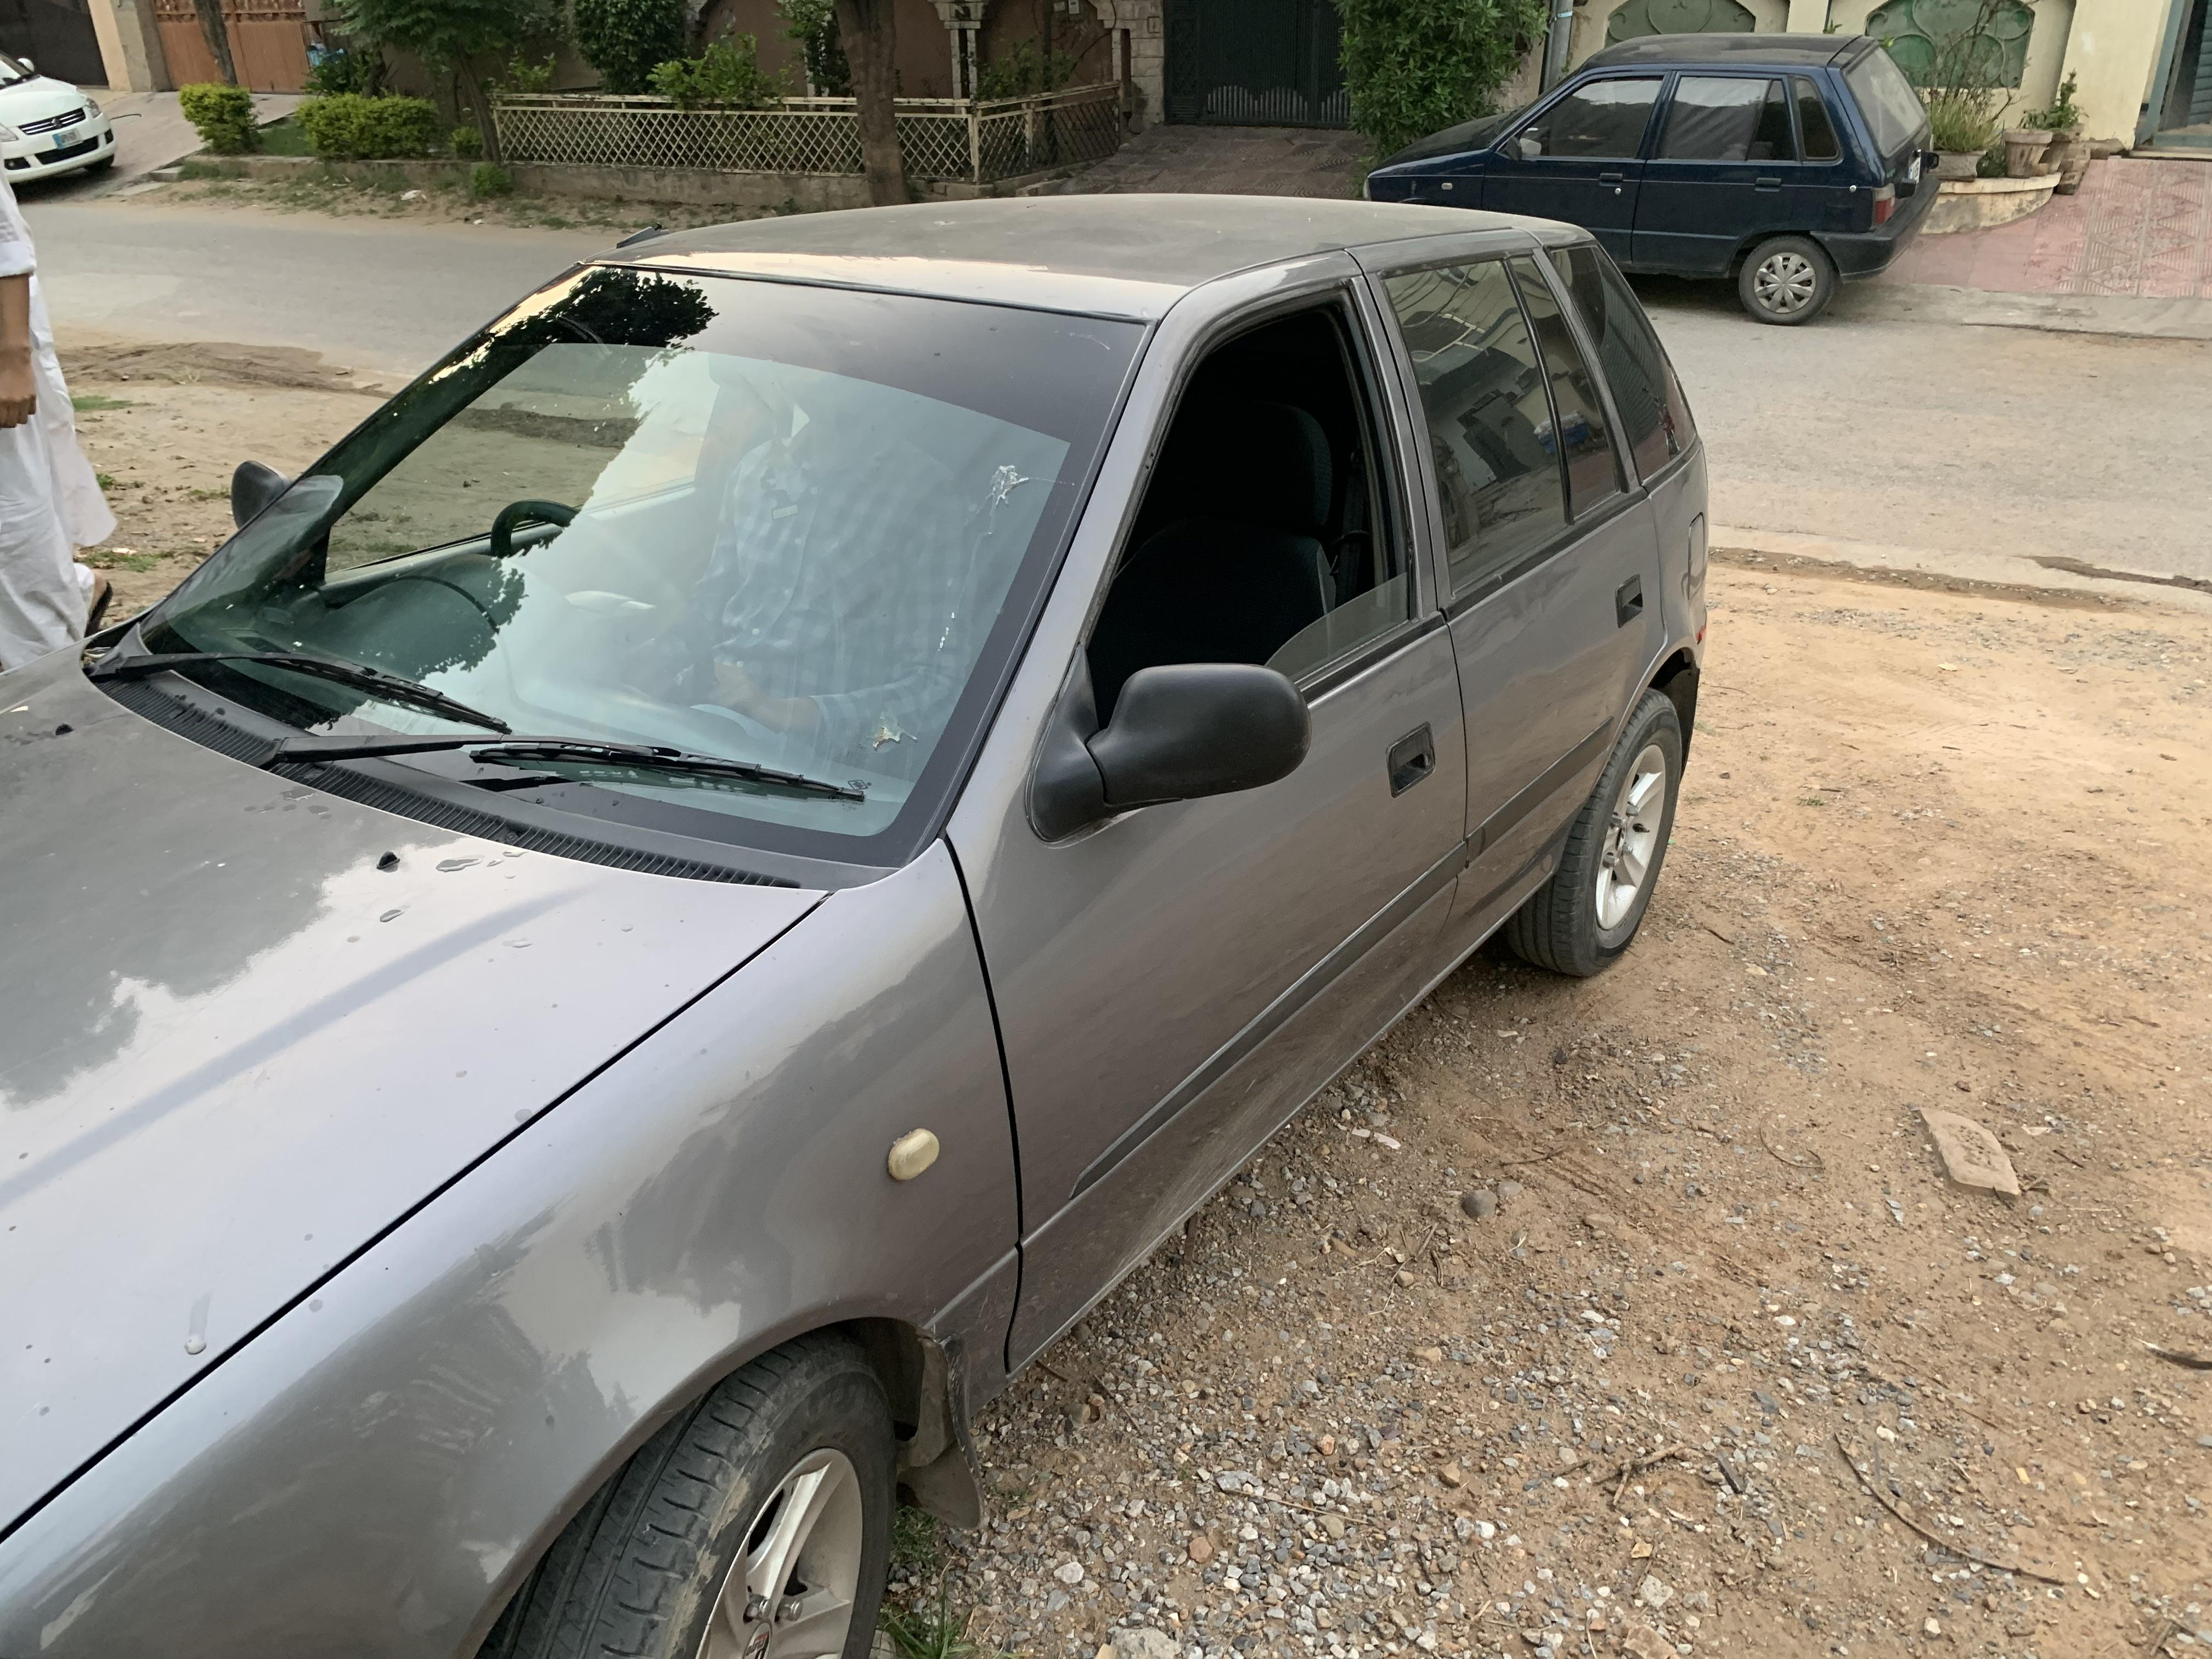windshield: (84, 253, 1191, 904)
